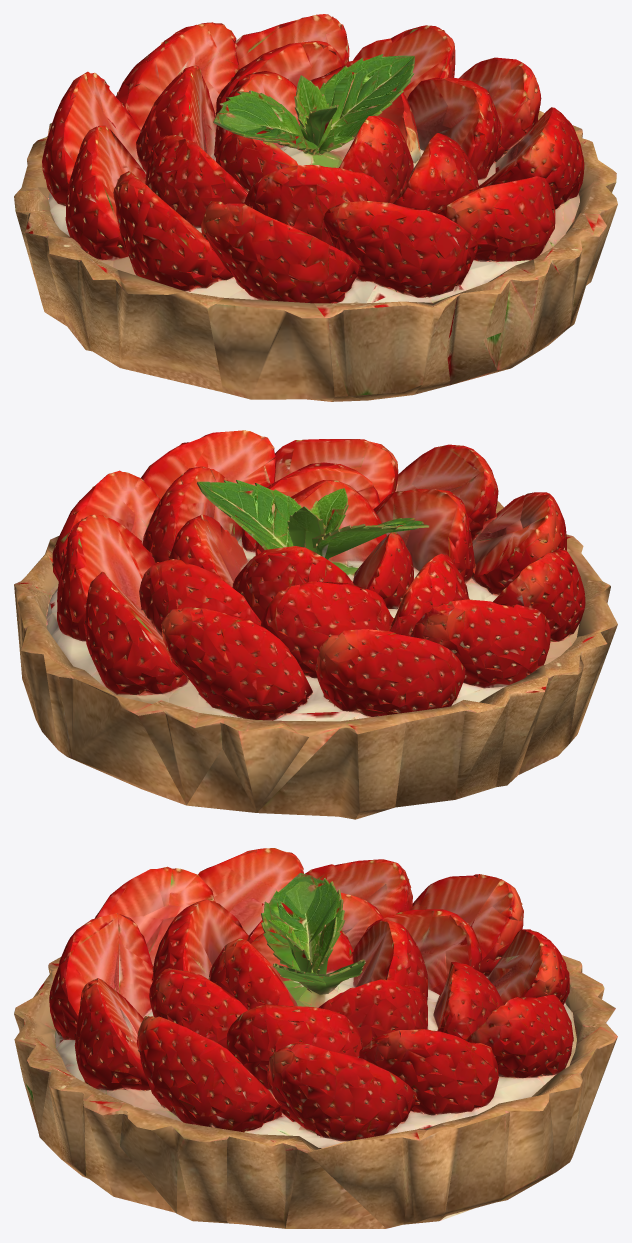
The model's file is tart-lo.glb.
3 renders of one model, top to bottom at view 1: azimuth 30°, elevation 25°; view 2: azimuth 150°, elevation 25°; view 3: azimuth 270°, elevation 25°, orthographic.
Visible parts, largest first — view 1: Mesh_0; view 2: Mesh_0; view 3: Mesh_0.
Part boxes in pixels (x1,y1,x2,y2): Mesh_0: [14, 14, 617, 401]; Mesh_0: [14, 430, 617, 819]; Mesh_0: [14, 848, 617, 1228].
Size of the model in its own units: 1.9 by 0.7048 by 1.9.
Materials: 1 (1 with a texture image).
